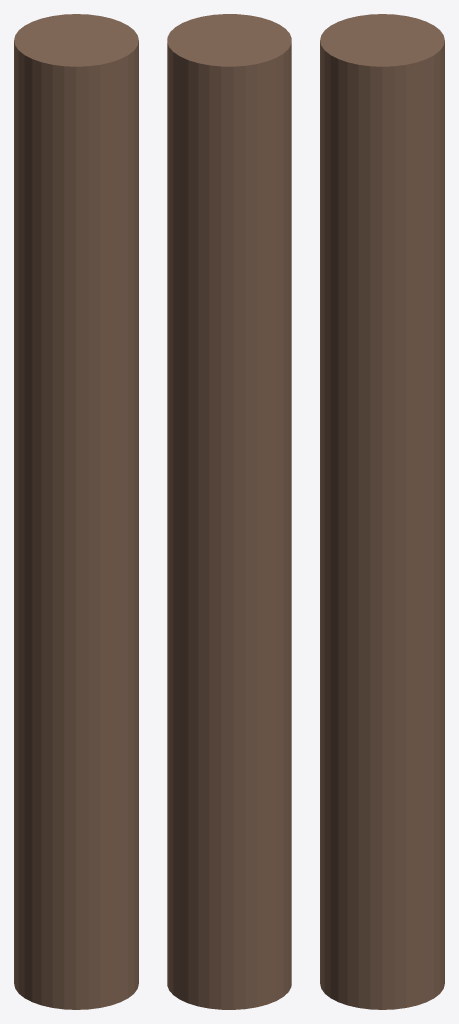
Rendered from maple.glb.
The picture shows the model from 3 angles, left to right: view 1: azimuth 90°, elevation 25°; view 2: azimuth 150°, elevation 25°; view 3: azimuth 270°, elevation 25°; orthographic projection.
Parts seen in each view (by area): view 1: MapleMature_Trunk.002; view 2: MapleMature_Trunk.002; view 3: MapleMature_Trunk.002.
Boxes of the visible parts, box(x1,y1,x2,y2) form: MapleMature_Trunk.002: box(14, 14, 138, 1009); MapleMature_Trunk.002: box(167, 14, 291, 1009); MapleMature_Trunk.002: box(320, 14, 444, 1009).
Bounding box in the file's own units: 0.24 × 2 × 0.24.
